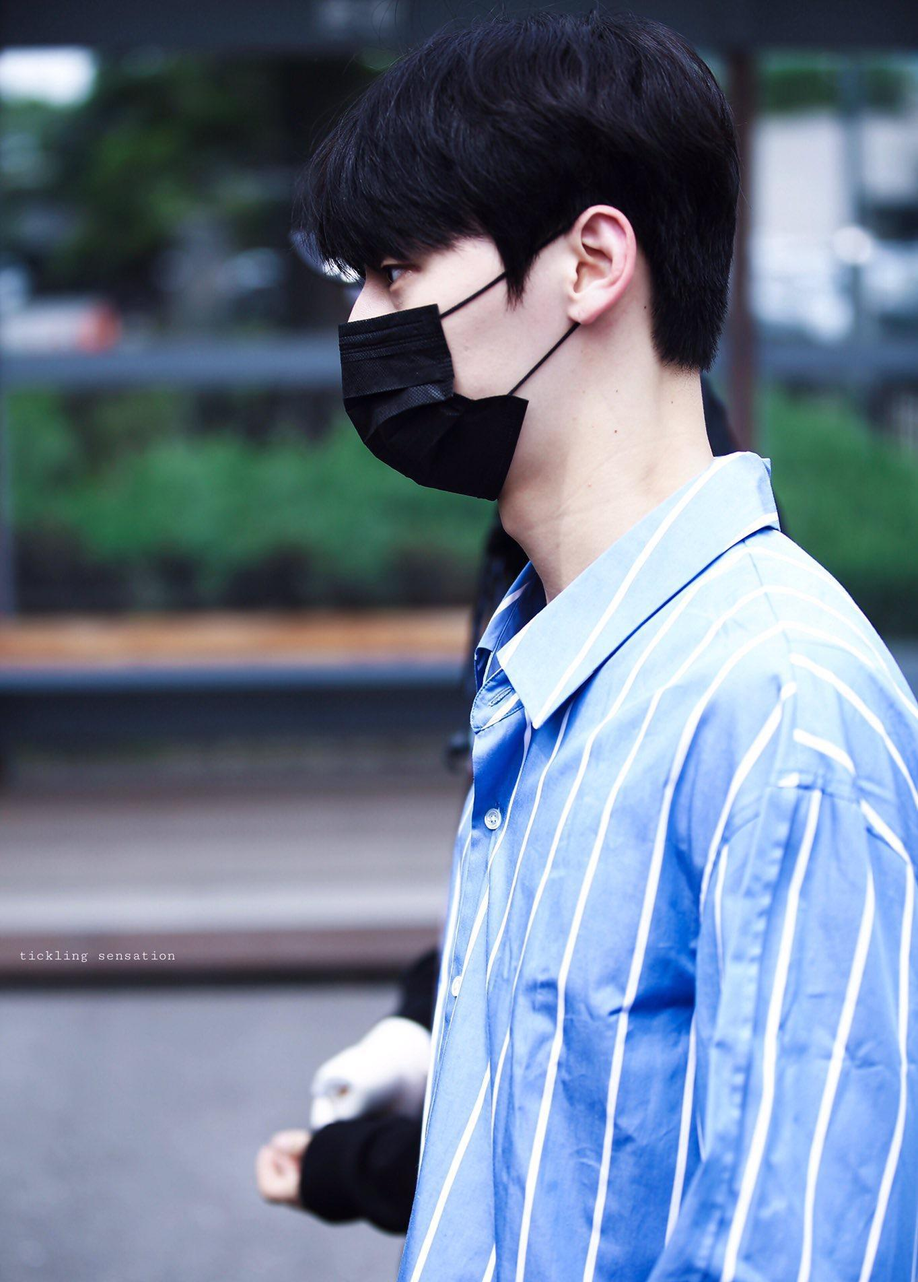OK: (320, 191, 634, 504)
